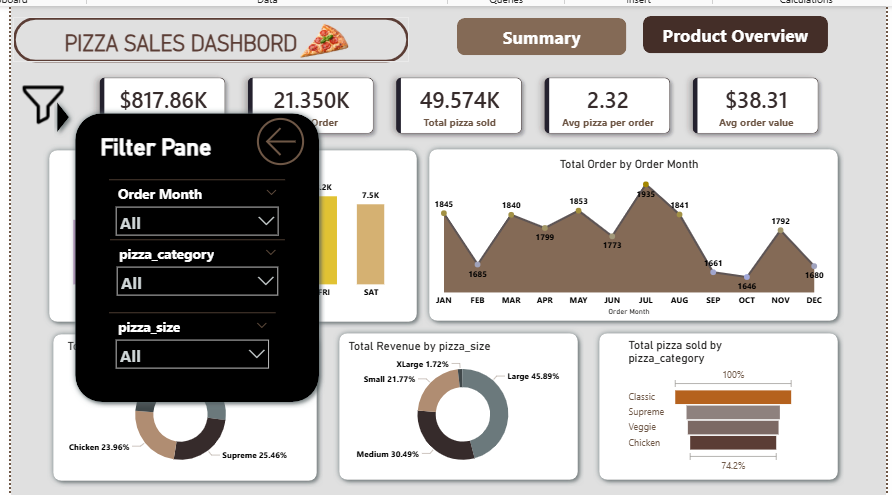

This screenshot's page, from the dashboard's own definition file:
{"tool":"powerbi","page":{"name":"Summary","canvas":[1280,720],"ordinal":0},"visuals":[{"type":"image","box":[418.7,10.3,82,82],"z":0,"group":"g1"},{"type":"shape","box":[99.3,140.1,361.7,440.8],"z":0,"group":"g2"},{"type":"textbox","box":[73.2,29.3,386.3,52.7],"z":1000,"group":"g1"},{"type":"cardVisual","fields":{"Data":["pizza_sales.Total Revenue","pizza_sales.Total Order","pizza_sales.Total pizza sold","pizza_sales.Avg pizza per order","pizza_sales.Avg order value"]},"box":[97,71.7,1121.2,148.8],"z":1000},{"type":"slicer","fields":{"Values":["pizza_sales.pizza_category"]},"box":[157.6,329.7,247,96.6],"z":1000,"group":"g2"},{"type":"shape","box":[3.4,15.4,579.3,66.6],"z":2000,"group":"g1"},{"type":"slicer","fields":{"Values":["pizza_sales.pizza_size"]},"box":[156.2,436.5,235.7,101],"z":2000,"group":"g2"},{"type":"shape","box":[851.2,470.3,367.3,232.7],"z":2000},{"type":"shape","box":[46.3,202.5,556.1,269.3],"z":3000},{"type":"slicer","fields":{"Values":["pizza_sales.Order Month"]},"box":[155.1,241,249.3,93.6],"z":3000,"group":"g2"},{"type":"shape","box":[73.7,124.4,34.2,61.9],"z":4000,"group":"g2"},{"type":"shape","box":[470.7,470.3,367.3,232.7],"z":4000},{"type":"textbox","box":[138.5,173.6,192.8,49.2],"z":5000,"group":"g2"},{"type":"shape","box":[602.4,201,616.1,269.3],"z":5000},{"type":"actionButton","box":[355.7,147.9,116.1,86.4],"z":6000,"group":"g2"},{"type":"shape","box":[52.2,471.7,403.9,232.7],"z":6000},{"type":"shape","box":[142.4,220.5,439,266.3],"z":7000},{"type":"shape","box":[598,218.8,602.2,267.1],"z":8000},{"type":"clusteredColumnChart","fields":{"Y":["pizza_sales.Total pizza sold"],"Category":["pizza_sales.Order Day"]},"box":[59,220.5,522.4,225.4],"z":9000},{"type":"areaChart","fields":{"Category":["pizza_sales.Order Month"],"Y":["pizza_sales.Total Order"]},"box":[608.8,220.3,591.4,236.2],"z":10000},{"type":"shape","box":[487.8,486.9,332.2,200.5],"z":11000},{"type":"shape","box":[901.7,486.4,353.6,233.1],"z":12000},{"type":"donutChart","fields":{"Category":["pizza_sales.pizza_category"],"Y":["pizza_sales.Total Revenue"]},"box":[78,486.9,341,202],"z":13000},{"type":"donutChart","fields":{"Y":["pizza_sales.Total Revenue"],"Category":["pizza_sales.pizza_size"]},"box":[488.3,486.6,345.2,201.7],"z":14000},{"type":"funnel","fields":{"Y":["pizza_sales.Total pizza sold"],"Category":["pizza_sales.pizza_category"]},"box":[899,485.4,253.2,202],"z":15000},{"type":"actionButton","title":"Filter Button","box":[5.3,102.3,82.4,85],"z":17000},{"type":"actionButton","box":[652.2,16.9,248.1,54.5],"z":18000},{"type":"actionButton","box":[924.8,15,270.7,54.5],"z":19000},{"type":"group","id":"g1","title":"Group 2","box":[3.4,10.3,579.3,82],"z":20000},{"type":"group","id":"g2","title":"Group 1","box":[73.7,124.4,397.7,456.7],"z":21000}]}

Visuals, with their boxes on the page's 1280x720 design canvas (x1, y1, x2, y2). These are canvas units, not pixel positions in the 892x495 screenshot, which may show the page scaled, cropped or inside an application window:
image: l=419, t=10, r=501, b=92
shape: l=99, t=140, r=461, b=581
textbox: l=73, t=29, r=460, b=82
cardVisual - pizza_sales.Total Revenue x pizza_sales.Total Order: l=97, t=72, r=1218, b=220
slicer - pizza_sales.pizza_category: l=158, t=330, r=405, b=426
shape: l=3, t=15, r=583, b=82
slicer - pizza_sales.pizza_size: l=156, t=436, r=392, b=538
shape: l=851, t=470, r=1218, b=703
shape: l=46, t=202, r=602, b=472
slicer - pizza_sales.Order Month: l=155, t=241, r=404, b=335
shape: l=74, t=124, r=108, b=186
shape: l=471, t=470, r=838, b=703
textbox: l=138, t=174, r=331, b=223
shape: l=602, t=201, r=1218, b=470
actionButton: l=356, t=148, r=472, b=234
shape: l=52, t=472, r=456, b=704
shape: l=142, t=220, r=581, b=487
shape: l=598, t=219, r=1200, b=486
clusteredColumnChart - pizza_sales.Total pizza sold x pizza_sales.Order Day: l=59, t=220, r=581, b=446
areaChart - pizza_sales.Order Month x pizza_sales.Total Order: l=609, t=220, r=1200, b=456
shape: l=488, t=487, r=820, b=687
shape: l=902, t=486, r=1255, b=720
donutChart - pizza_sales.pizza_category x pizza_sales.Total Revenue: l=78, t=487, r=419, b=689
donutChart - pizza_sales.Total Revenue x pizza_sales.pizza_size: l=488, t=487, r=834, b=688
funnel - pizza_sales.Total pizza sold x pizza_sales.pizza_category: l=899, t=485, r=1152, b=687
"Filter Button" actionButton: l=5, t=102, r=88, b=187
actionButton: l=652, t=17, r=900, b=71
actionButton: l=925, t=15, r=1196, b=70
"Group 2" group: l=3, t=10, r=583, b=92
"Group 1" group: l=74, t=124, r=471, b=581
